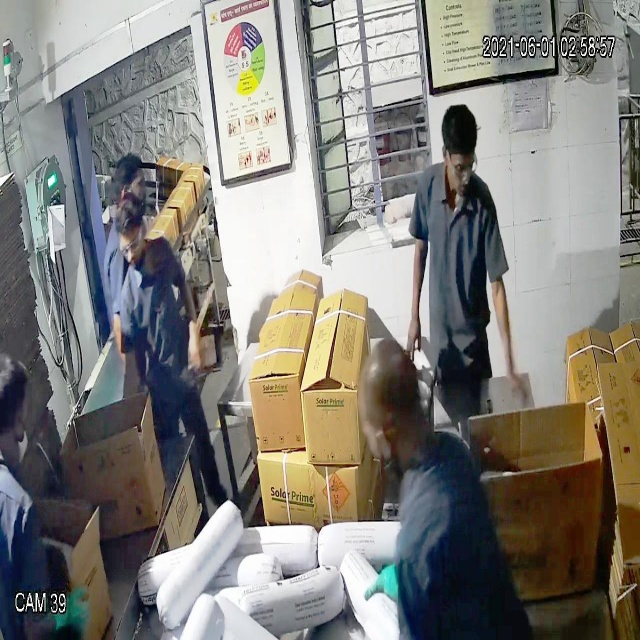Gafas: (443, 148, 484, 188), (113, 220, 149, 260)
